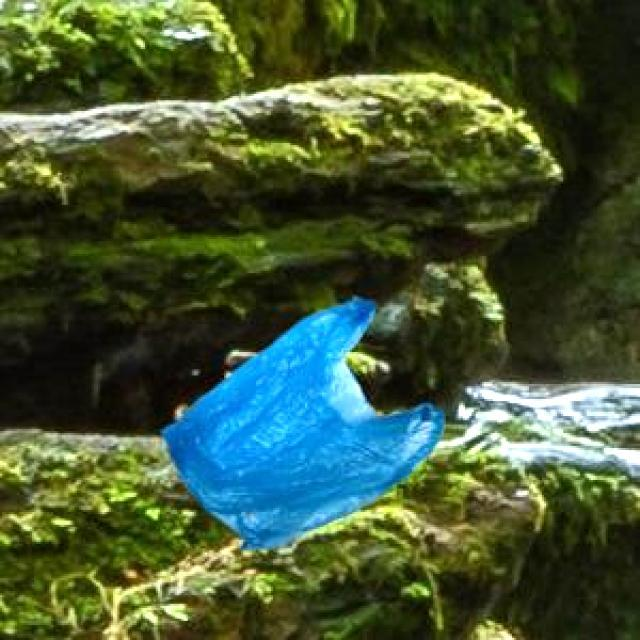Plastic_Bag: (158, 294, 440, 548)
